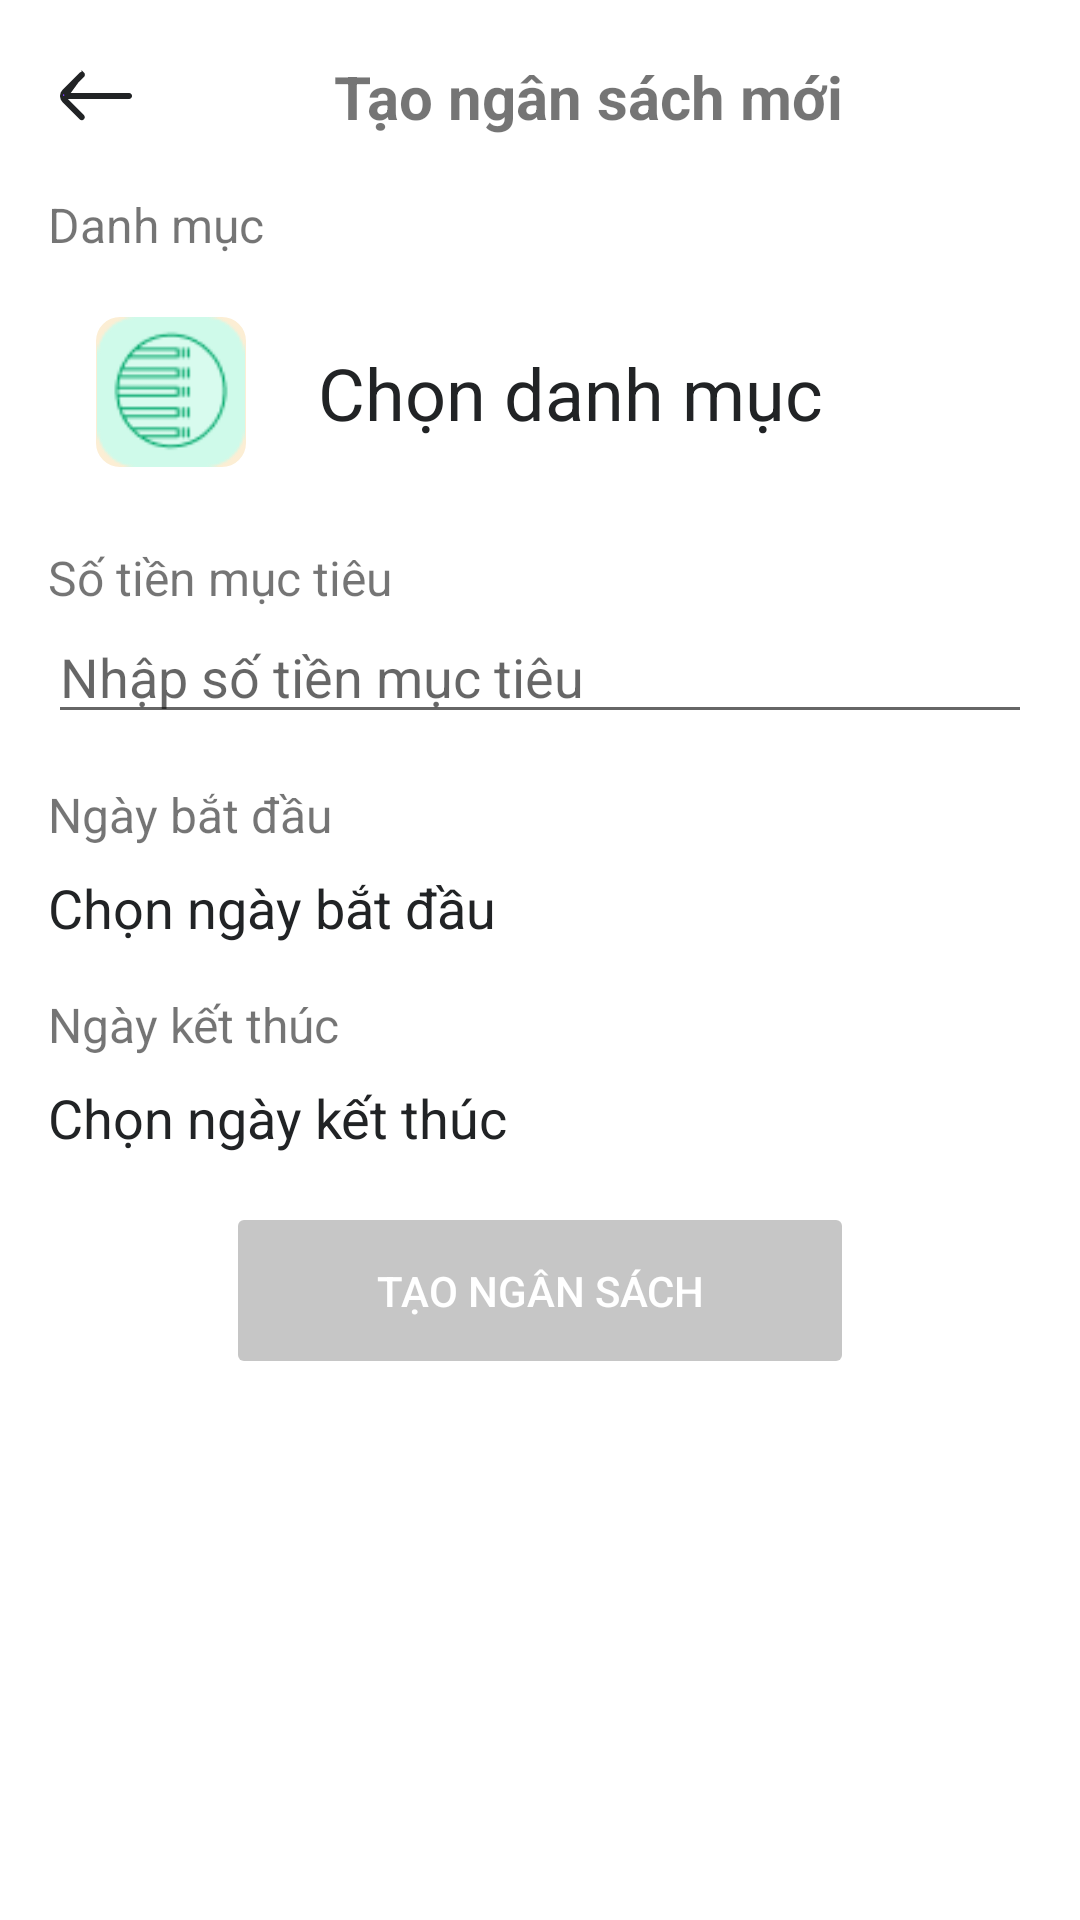

Named icons in this screenshot (1080 × 1920) and their centers, point (x, y):
back: point (96, 95)
category: point (171, 392)
